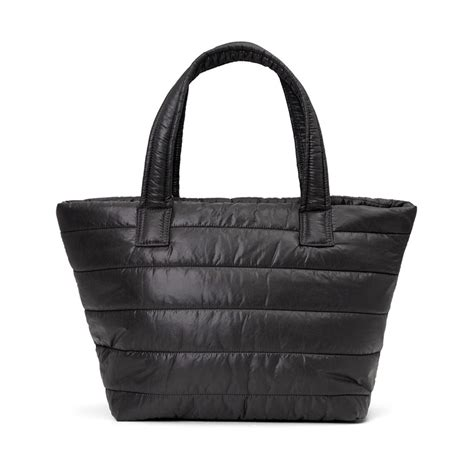nylon: (57, 41, 416, 423)
